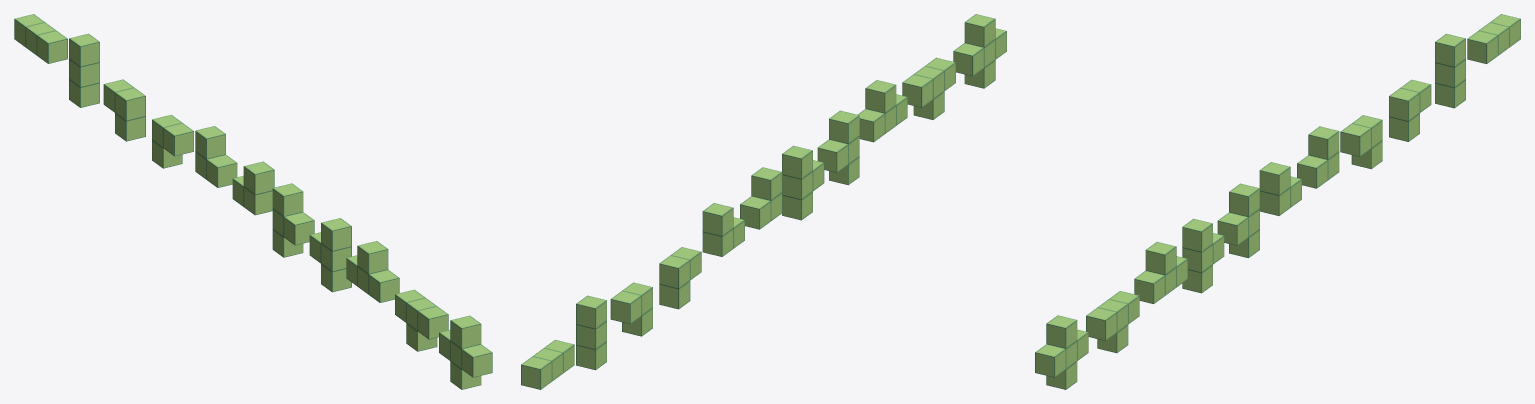
Rendered from PieceModel.fbx.
The picture shows the model from 3 angles, left to right: view 1: azimuth 30°, elevation 25°; view 2: azimuth 150°, elevation 25°; view 3: azimuth 330°, elevation 25°; orthographic projection.
Visible parts, largest first — view 1: Piece_1, Piece_5, Piece_4, Piece_3, Piece_2, Piece_10, Piece_9, Piece_7, Piece_8, Piece_11, Piece_6; view 2: Piece_1, Piece_5, Piece_4, Piece_2, Piece_3, Piece_10, Piece_8, Piece_6, Piece_7, Piece_9, Piece_11; view 3: Piece_1, Piece_5, Piece_4, Piece_2, Piece_3, Piece_10, Piece_9, Piece_7, Piece_8, Piece_6, Piece_11.
Boxes of the visible parts, bbox=[...] form: Piece_1: bbox=[439, 315, 492, 389]; Piece_5: bbox=[272, 183, 314, 257]; Piece_4: bbox=[309, 218, 351, 292]; Piece_3: bbox=[346, 241, 399, 302]; Piece_2: bbox=[395, 289, 448, 351]; Piece_10: bbox=[69, 33, 99, 107]; Piece_9: bbox=[103, 79, 145, 141]; Piece_7: bbox=[195, 126, 237, 187]; Piece_8: bbox=[152, 114, 193, 168]; Piece_11: bbox=[14, 14, 67, 63]; Piece_6: bbox=[232, 161, 274, 215]; Piece_1: bbox=[953, 14, 1006, 88]; Piece_5: bbox=[782, 145, 824, 220]; Piece_4: bbox=[817, 110, 859, 185]; Piece_2: bbox=[902, 57, 955, 119]; Piece_3: bbox=[857, 80, 907, 142]; Piece_10: bbox=[576, 295, 606, 370]; Piece_8: bbox=[659, 247, 701, 309]; Piece_6: bbox=[740, 167, 782, 229]; Piece_7: bbox=[702, 203, 744, 256]; Piece_9: bbox=[610, 282, 652, 336]; Piece_11: bbox=[521, 340, 574, 389]; Piece_1: bbox=[1035, 315, 1088, 389]; Piece_5: bbox=[1217, 183, 1259, 258]; Piece_4: bbox=[1182, 218, 1224, 293]; Piece_2: bbox=[1086, 291, 1139, 353]; Piece_3: bbox=[1134, 242, 1187, 303]; Piece_10: bbox=[1435, 33, 1465, 108]; Piece_9: bbox=[1389, 79, 1431, 141]; Piece_7: bbox=[1297, 126, 1339, 188]; Piece_8: bbox=[1340, 115, 1382, 169]; Piece_6: bbox=[1259, 162, 1301, 215]; Piece_11: bbox=[1467, 14, 1520, 63].
Size of the model in its own units: 234 by 637 by 8171.
